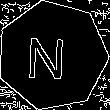N_N: (31, 30, 74, 81)
